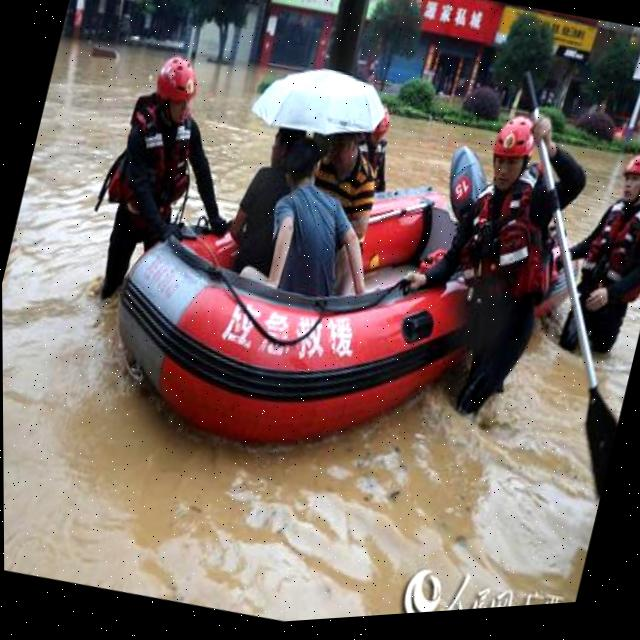civilian: (252, 128, 396, 319), (288, 123, 396, 287), (215, 117, 311, 285)
rescuer: (370, 87, 605, 450), (66, 29, 266, 333), (538, 138, 640, 376), (348, 91, 412, 195)
